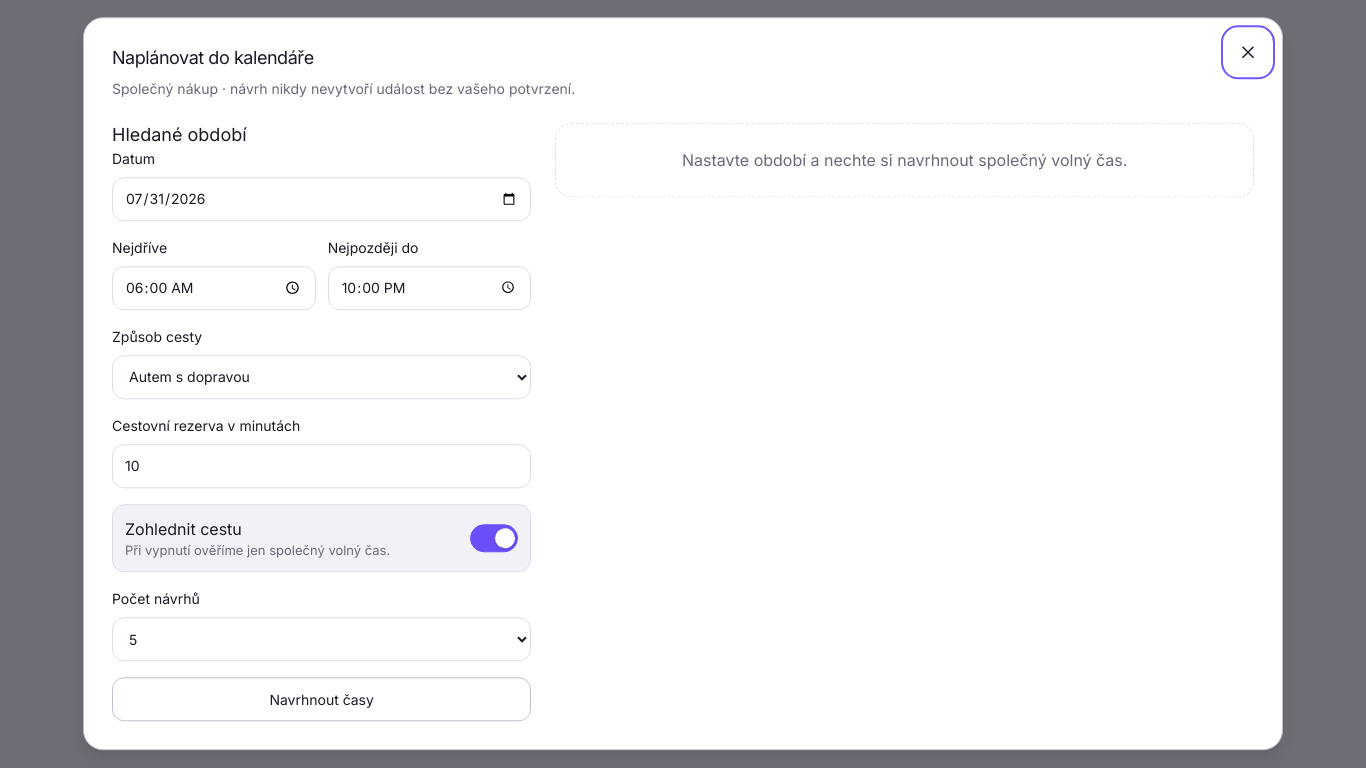
Test: task scheduling dialog integration › requires explicit acknowledgement before selecting an unverified slot
Click the button "Navrhnout časy".
click(322, 700)  # box [112, 678, 531, 722]
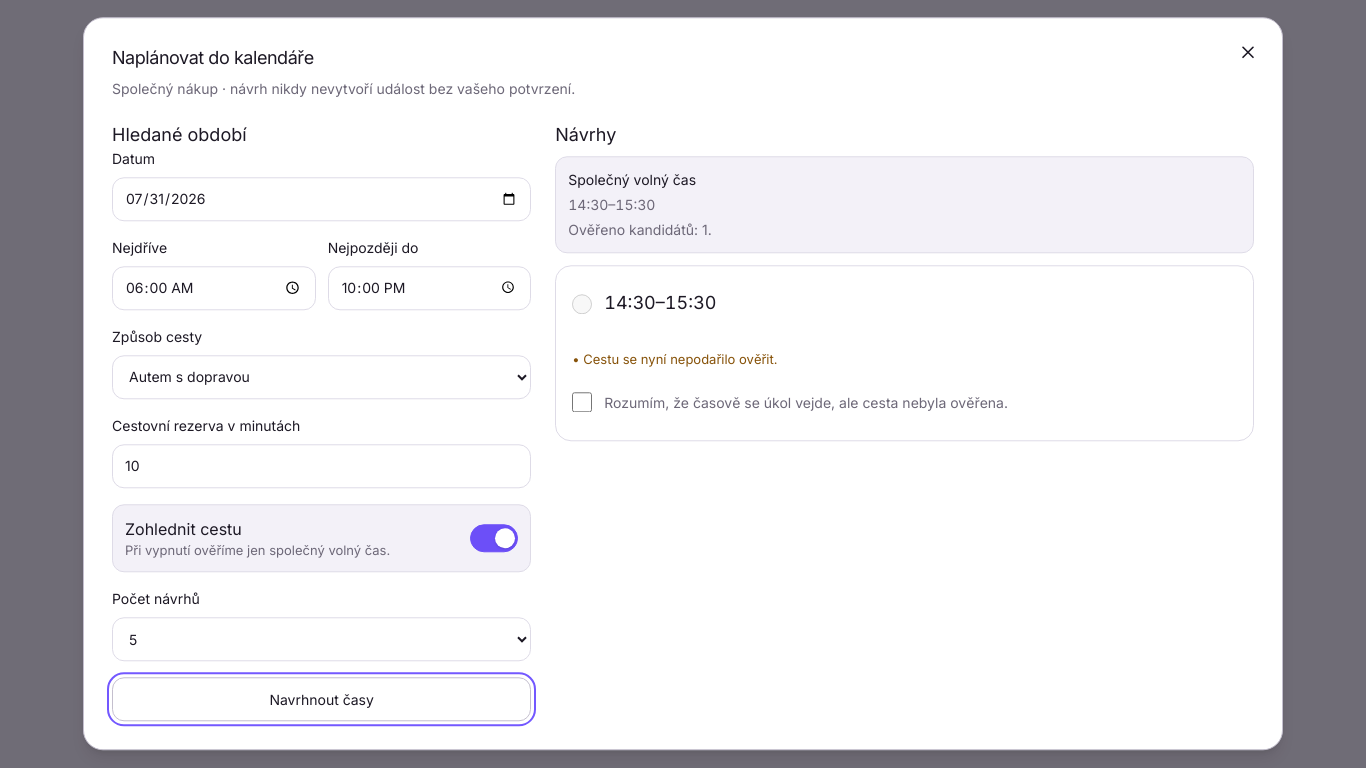
Expected: the radio button is disabled, [572, 294, 592, 314]
Click the checkbox labelled "Rozumím, že časově se úkol vejde, ale cesta nebyla ověřena.".
click(582, 403)  # box [572, 393, 592, 413]
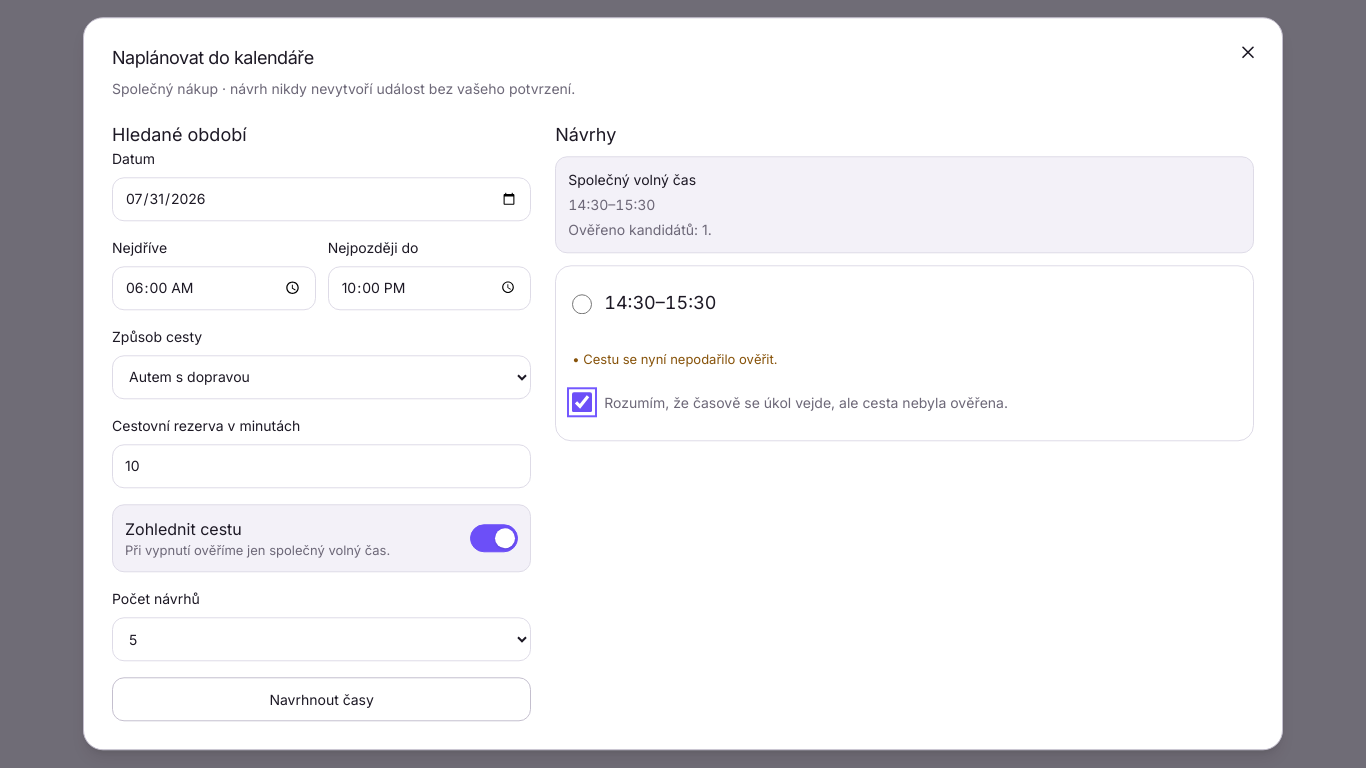
Expected: the radio button is enabled
Click the radio button.
click(582, 304)  # box [572, 294, 592, 314]
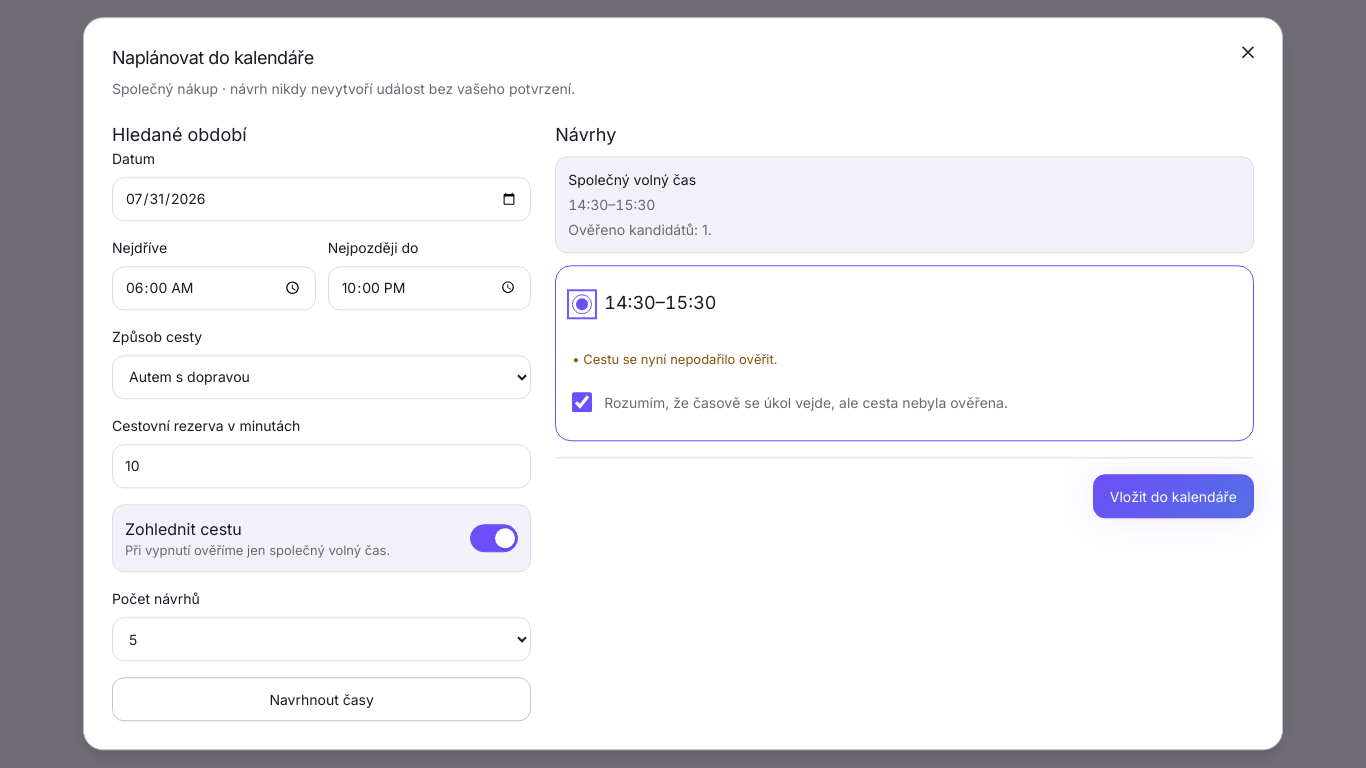
Expected: the button "Vložit do kalendáře" is enabled, [1093, 475, 1254, 519]
